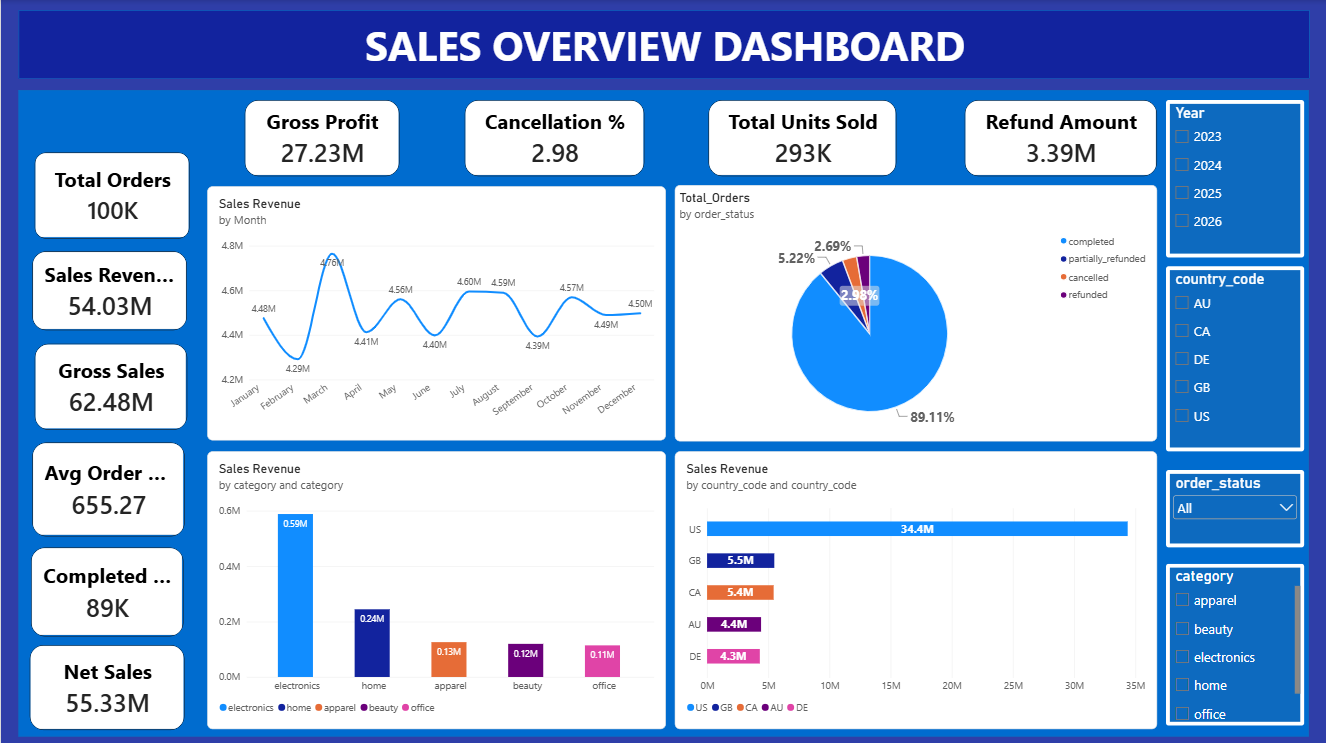

What the dashboard file says about the page in this screenshot:
{"tool":"powerbi","page":{"name":"Page 1","canvas":[1920,1080],"ordinal":0},"visuals":[{"type":"shape","box":[25.3,14.5,1869.4,99.5],"z":0},{"type":"shape","box":[26,130,1868,936],"z":1000},{"type":"cardVisual","fields":{"Data":["orders.Total_Orders"]},"box":[48,220,224.4,124.9],"z":2000},{"type":"cardVisual","fields":{"Data":["orders.Sales Revenue"]},"box":[46,364,224.4,114],"z":3000},{"type":"cardVisual","fields":{"Data":["orders.Net Sales"]},"box":[48,498,220.8,124.9],"z":4000},{"type":"cardVisual","fields":{"Data":["orders.Avg Order Value"]},"box":[46,640,220.8,135.7],"z":5000},{"type":"cardVisual","fields":{"Data":["orders.completed orders"]},"box":[44,792,220.8,128.5],"z":6000},{"type":"cardVisual","fields":{"Data":["orders.Net Sales"]},"box":[42,934,224.4,123.1],"z":7000},{"type":"lineChart","fields":{"Category":["orders.ordered_at.Variation.Date Hierarchy.Year","orders.ordered_at.Variation.Date Hierarchy.Month"],"Y":["orders.Sales Revenue"]},"box":[298,270,664,368],"z":8000},{"type":"pieChart","fields":{"Category":["orders.order_status"],"Y":["orders.Total_Orders"]},"box":[976,268,698,371],"z":9000},{"type":"columnChart","fields":{"Category":["products.category","products.product_name"],"Series":["products.category"],"Y":["orders.Sales Revenue"]},"box":[298,654,664,402],"z":10000},{"type":"barChart","fields":{"Category":["customers.country_code"],"Series":["customers.country_code"],"Y":["orders.Sales Revenue"]},"box":[976,654,698,402],"z":11000},{"type":"slicer","fields":{"Values":["orders.ordered_at.Variation.Date Hierarchy.Year"]},"box":[1686,144,200,228],"z":12000},{"type":"cardVisual","fields":{"Data":["order_items.Gross Profit"]},"box":[352,144,224,110],"z":13000},{"type":"cardVisual","fields":{"Data":["order_items.Cancellation %"]},"box":[672,144,260,110],"z":14000},{"type":"cardVisual","fields":{"Data":["order_items.Total Units Sold"]},"box":[1024,144,272,110],"z":15000},{"type":"cardVisual","fields":{"Data":["order_items.Refund Amount"]},"box":[1396,144,278,110],"z":16000},{"type":"slicer","fields":{"Values":["customers.country_code"]},"box":[1686,386,200,268],"z":17000},{"type":"slicer","fields":{"Values":["orders.order_status"]},"box":[1686,680,200,112],"z":18000},{"type":"slicer","fields":{"Values":["products.category"]},"box":[1686,816,200,234],"z":19000},{"type":"textbox","box":[164,26,508,76],"z":20000},{"type":"textbox","box":[418,26,1086,88],"z":21000}]}

Visuals, with their boxes in screenshot pixels (x1, y1, x2, y2), scaled from the page's 1920x1080 canvas onto the 1326x743 screenshot:
shape: box=[17, 10, 1309, 78]
shape: box=[18, 89, 1308, 733]
cardVisual - orders.Total_Orders: box=[33, 151, 188, 237]
cardVisual - orders.Sales Revenue: box=[32, 250, 187, 329]
cardVisual - orders.Net Sales: box=[33, 343, 186, 429]
cardVisual - orders.Avg Order Value: box=[32, 440, 184, 534]
cardVisual - orders.completed orders: box=[30, 545, 183, 633]
cardVisual - orders.Net Sales: box=[29, 643, 184, 727]
lineChart - orders.ordered_at.Variation.Date Hierarchy.Year x orders.ordered_at.Variation.Date Hierarchy.Month: box=[206, 186, 664, 439]
pieChart - orders.order_status x orders.Total_Orders: box=[674, 184, 1156, 440]
columnChart - products.category x products.product_name: box=[206, 450, 664, 726]
barChart - customers.country_code x customers.country_code: box=[674, 450, 1156, 726]
slicer - orders.ordered_at.Variation.Date Hierarchy.Year: box=[1164, 99, 1303, 256]
cardVisual - order_items.Gross Profit: box=[243, 99, 398, 175]
cardVisual - order_items.Cancellation %: box=[464, 99, 644, 175]
cardVisual - order_items.Total Units Sold: box=[707, 99, 895, 175]
cardVisual - order_items.Refund Amount: box=[964, 99, 1156, 175]
slicer - customers.country_code: box=[1164, 266, 1303, 450]
slicer - orders.order_status: box=[1164, 468, 1303, 545]
slicer - products.category: box=[1164, 561, 1303, 722]
textbox: box=[113, 18, 464, 70]
textbox: box=[289, 18, 1039, 78]
